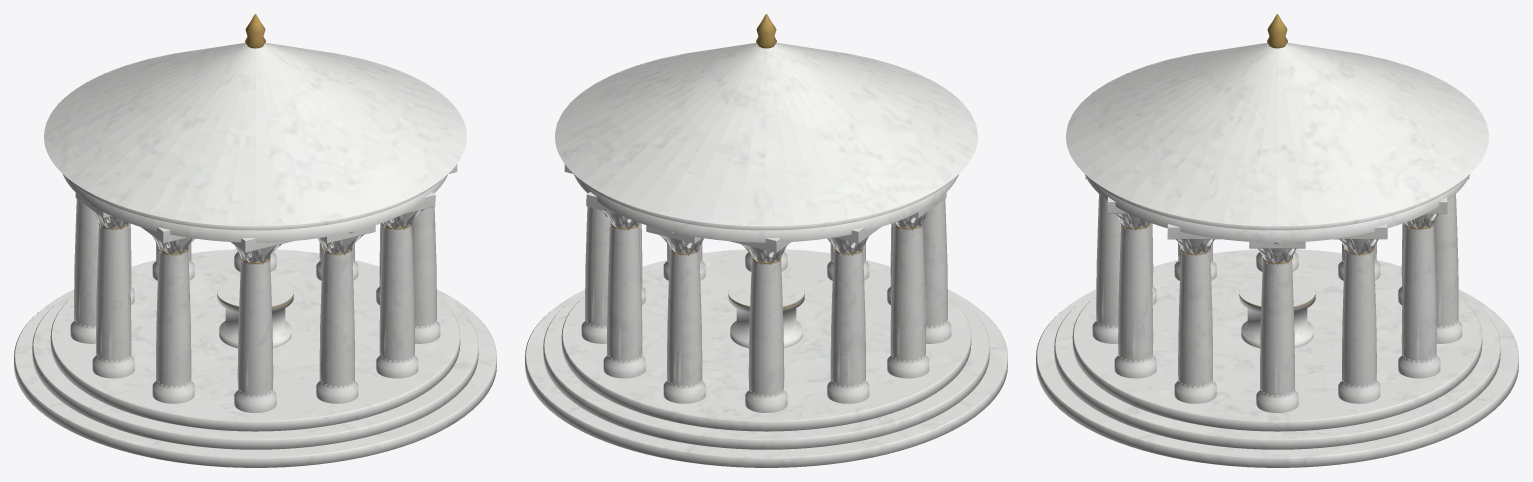
The model's file is round_tholos.glb.
3 renders of one model, left to right at view 1: azimuth 30°, elevation 25°; view 2: azimuth 150°, elevation 25°; view 3: azimuth 270°, elevation 25°, orthographic.
Visible parts, largest first — view 1: 10 Round Tholos; view 2: 10 Round Tholos; view 3: 10 Round Tholos.
Boxes of the visible parts, x1,y1,x2,y2 form: 10 Round Tholos: (14,14,496,467); 10 Round Tholos: (525,14,1007,467); 10 Round Tholos: (1036,14,1518,467).
Bounding box in the file's own units: 9.2 × 7.4 × 9.2.
Materials: 2 (2 with a texture image).
